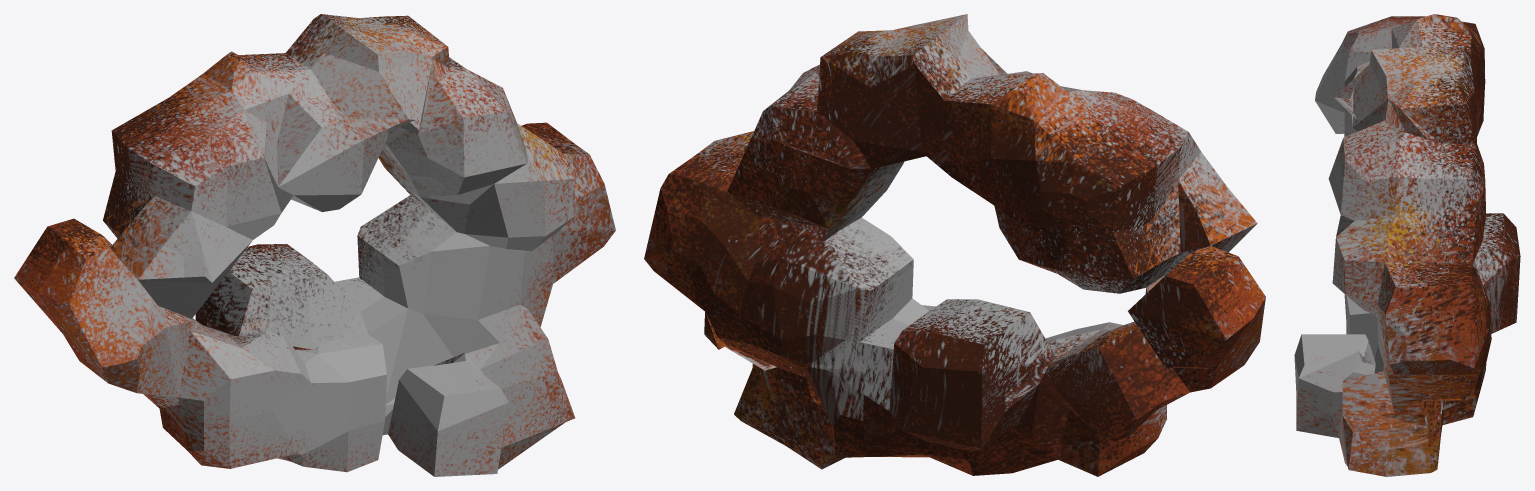
File: rock.glb
3 views of the same model, side by side, from view 1: azimuth 30°, elevation 25°; view 2: azimuth 150°, elevation 25°; view 3: azimuth 270°, elevation 25° (orthographic). The views are drawn at different scales.
Parts seen in each view (by area): view 1: rock; view 2: rock; view 3: rock.
Part boxes in pixels (x1,y1,x2,y2): rock: (14, 14, 615, 476); rock: (644, 14, 1265, 476); rock: (1294, 14, 1520, 476).
Size of the model in its own units: 2.12 by 1.58 by 0.8594.
1 material, 1 textured.
